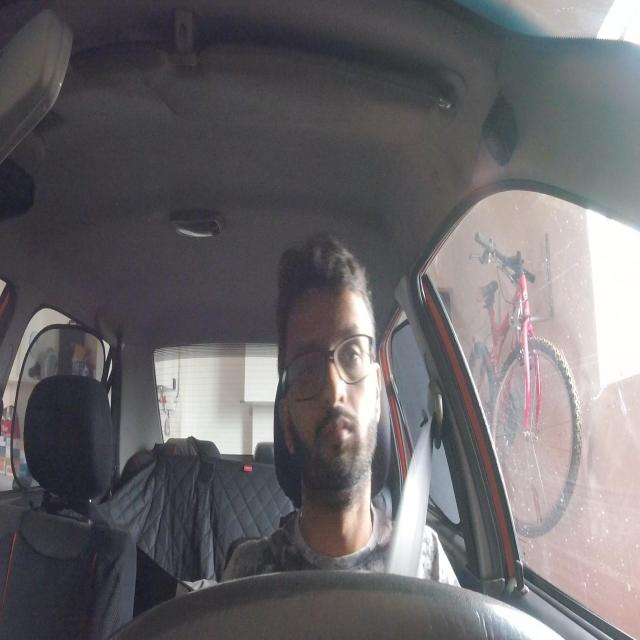open: (332, 324, 369, 384)
